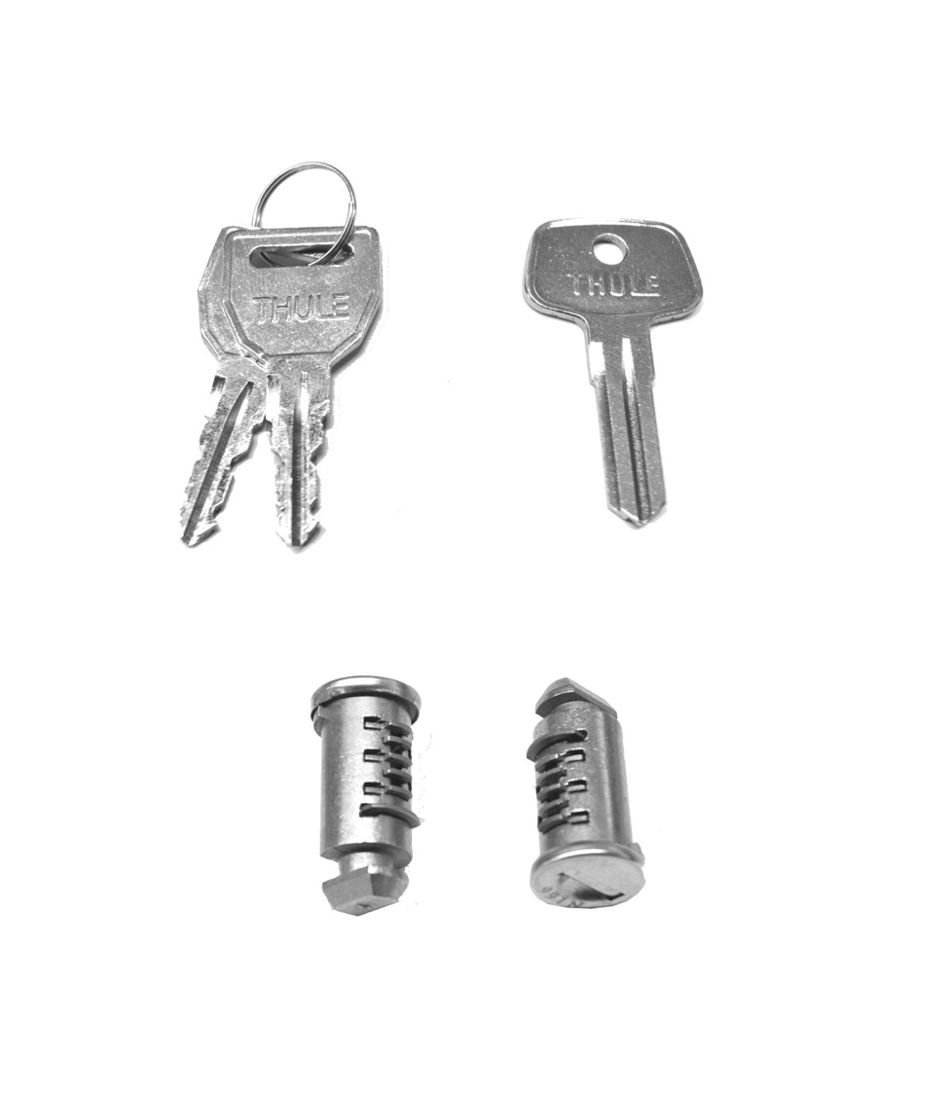key: (523, 214, 704, 527), (224, 227, 382, 552), (177, 224, 327, 548)
